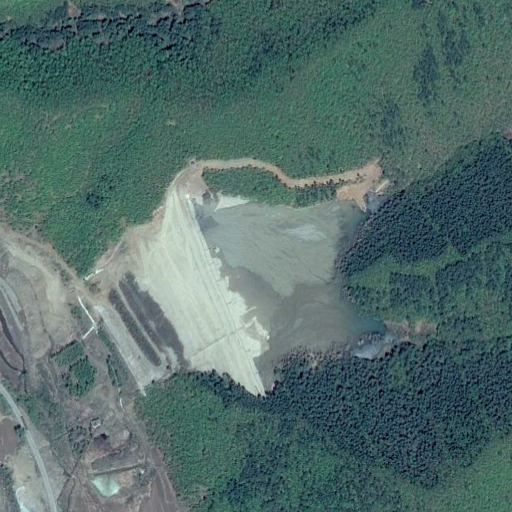tp: (100, 193, 394, 399)
